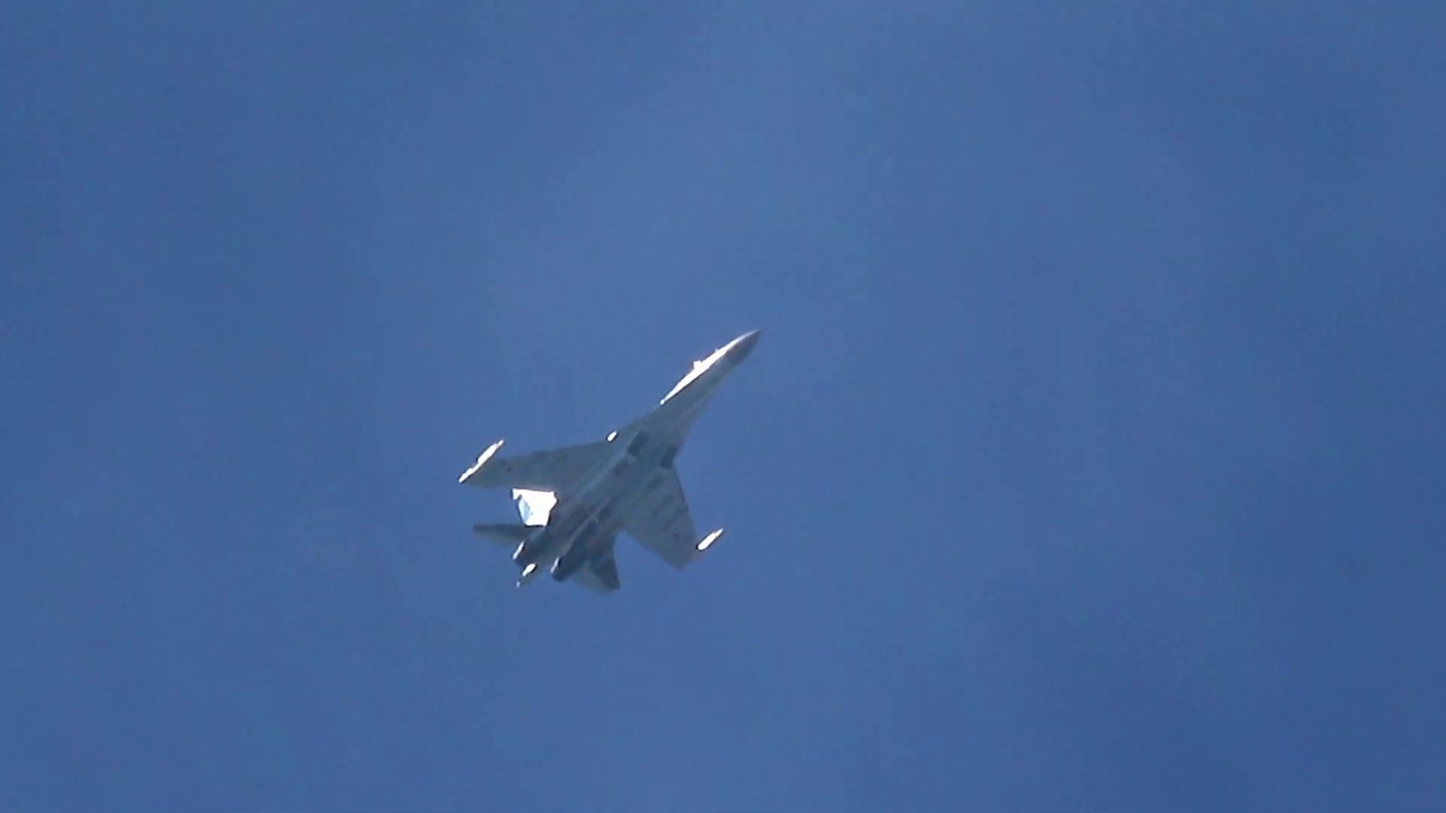Su35: (457, 327, 762, 593)
